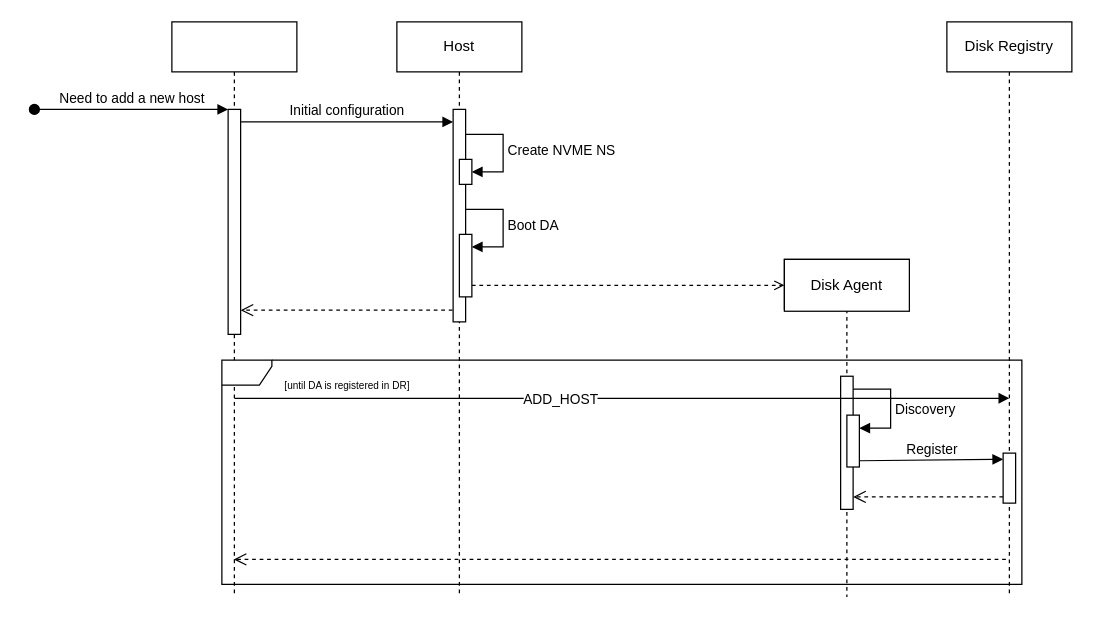
This 1094x619 diagram has some shape labels left out. Here are the shapes that lost their labels. From the top down, the box of each, then its label:
(171, 21, 297, 597): Infra
(221, 359, 1022, 584): loop
